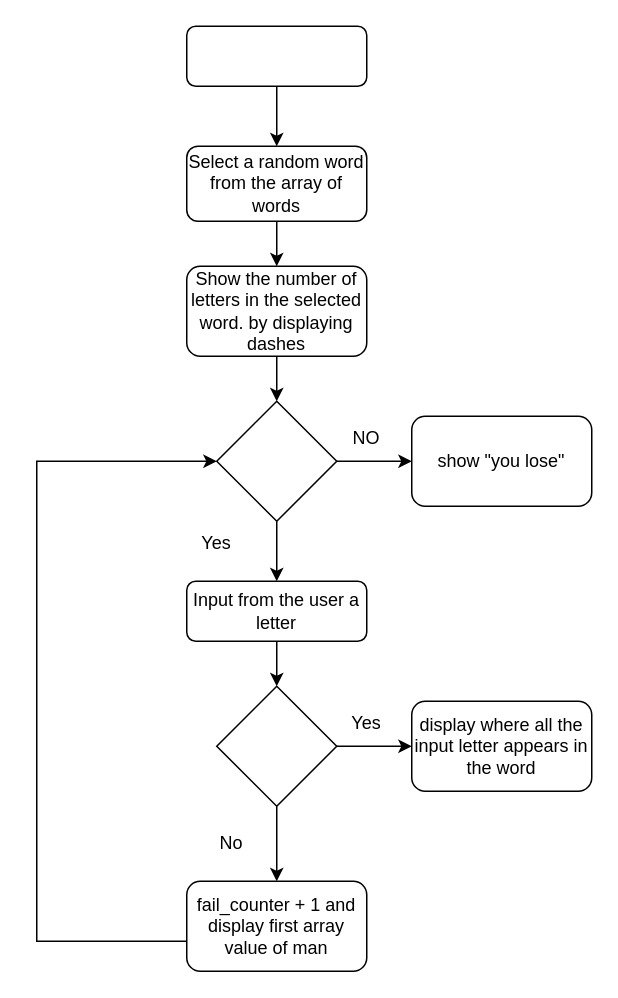
This 618x998 diagram has some shape labels left out. Here are the shapes that lost their labels. From the top down, the box of each, then its label:
(185, 25, 367, 86): store an array of words and man
(215, 400, 337, 521): while fail_counter in range of man
(215, 685, 337, 806): if letter in word
